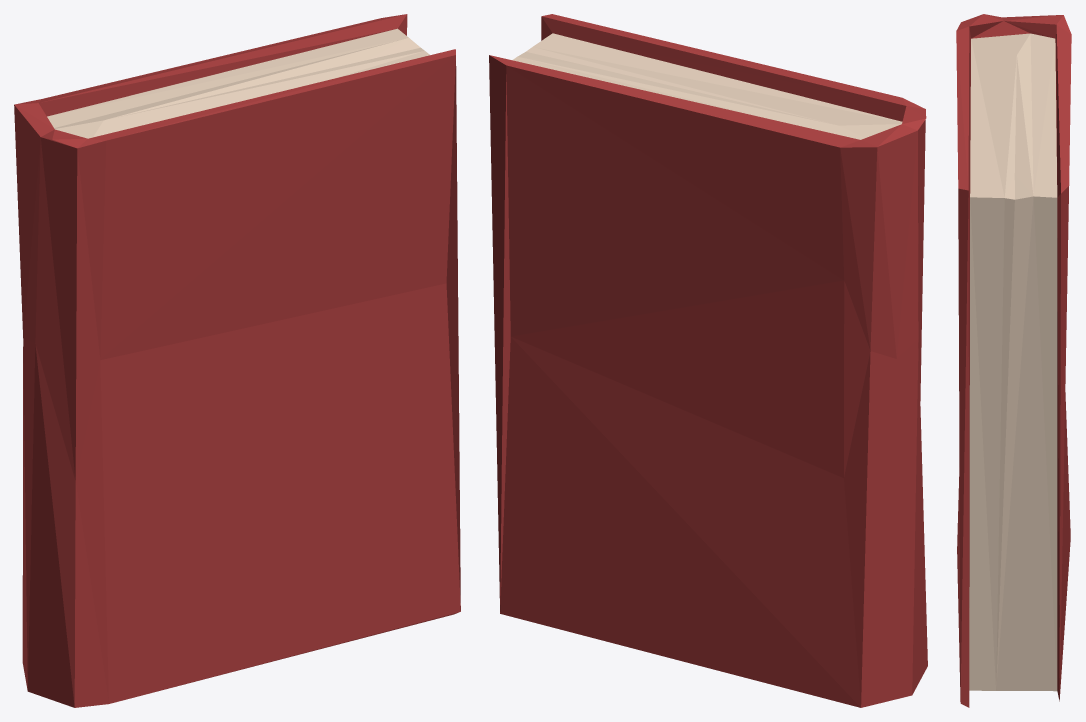
Rendered from SFFA_Book_002.fbx.
The picture shows the model from 3 angles, left to right: view 1: azimuth 30°, elevation 25°; view 2: azimuth 150°, elevation 25°; view 3: azimuth 270°, elevation 25°; orthographic projection. The views are drawn at different scales.
Parts seen in each view (by area): view 1: SFFA_Book_002; view 2: SFFA_Book_002; view 3: SFFA_Book_002.
Part boxes in pixels (x1,y1,x2,y2): SFFA_Book_002: (14, 14, 460, 707); SFFA_Book_002: (489, 14, 927, 707); SFFA_Book_002: (956, 14, 1071, 707).
Size of the model in its own units: 18.29 by 24.61 by 4.95.
